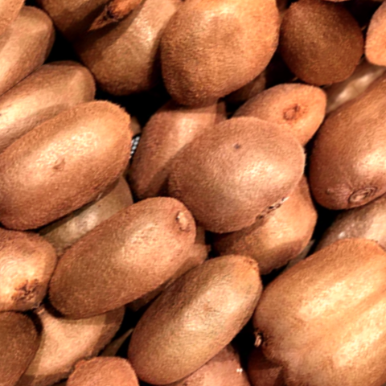kiwi: (146, 84, 341, 277), (21, 169, 223, 353), (102, 221, 302, 386), (0, 72, 164, 264), (116, 0, 315, 135), (231, 204, 386, 368)
